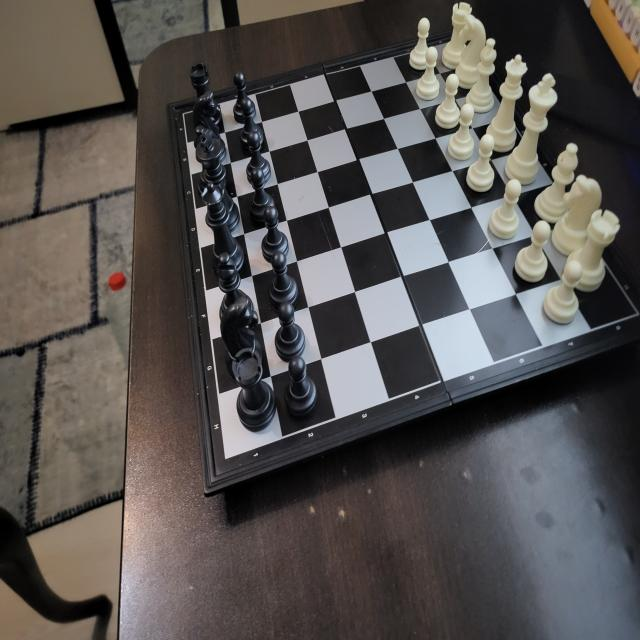black-bishop: (216, 252, 254, 312)
black-king: (195, 129, 240, 212)
black-knight: (220, 296, 264, 362), (191, 90, 223, 128)
black-pawn: (283, 356, 318, 418), (274, 300, 306, 360), (268, 250, 299, 305), (261, 204, 290, 262), (248, 166, 278, 222), (246, 130, 272, 185), (232, 70, 256, 122), (240, 96, 264, 148)
black-queen: (201, 181, 247, 275)
black-rook: (230, 346, 279, 434), (188, 62, 217, 94)
chess-board: (172, 31, 635, 477)
white-bishop: (536, 139, 578, 223), (467, 37, 498, 114)
white-king: (508, 70, 559, 186)
white-knight: (554, 176, 603, 255), (456, 15, 487, 90)
white-pawn: (542, 257, 582, 328), (514, 220, 552, 282), (488, 178, 520, 239), (466, 134, 497, 192), (448, 103, 475, 161), (434, 73, 460, 131), (416, 46, 441, 100), (410, 17, 431, 71)
white-queen: (486, 53, 529, 153)
white-rook: (566, 208, 622, 287), (442, 1, 472, 69)
